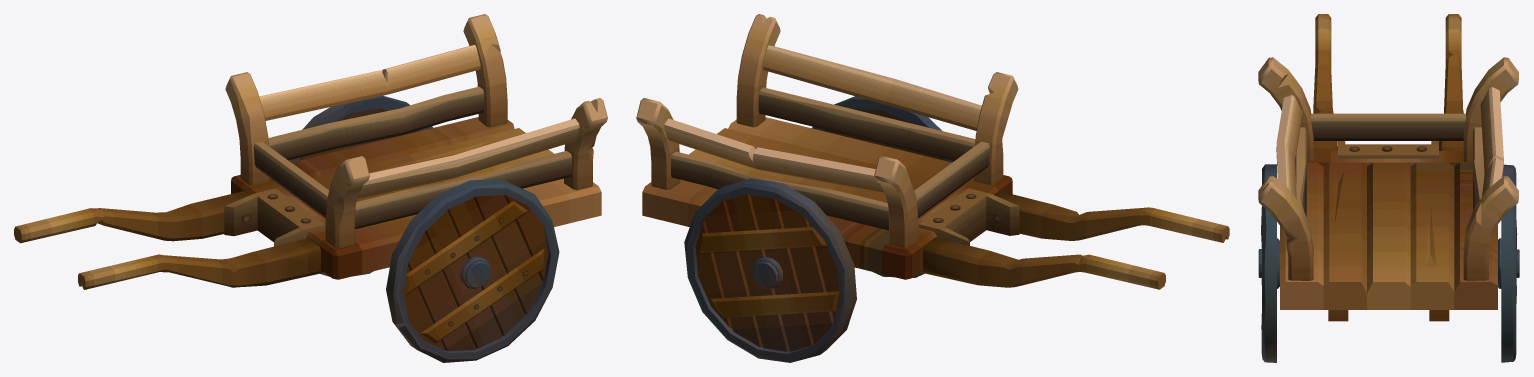
File: wagon.glb
The picture shows the model from 3 angles, left to right: view 1: azimuth 30°, elevation 25°; view 2: azimuth 150°, elevation 25°; view 3: azimuth 270°, elevation 25°; orthographic projection. The views are drawn at different scales.
Parts seen in each view (by area): view 1: wagon; view 2: wagon; view 3: wagon.
Boxes of the visible parts, x1,y1,x2,y2 form: wagon: [14, 14, 607, 362]; wagon: [636, 14, 1229, 362]; wagon: [1258, 14, 1519, 362].
Bounding box in the file's own units: 4.11 × 1.8 × 1.83.
Materials: 1 (1 with a texture image).
